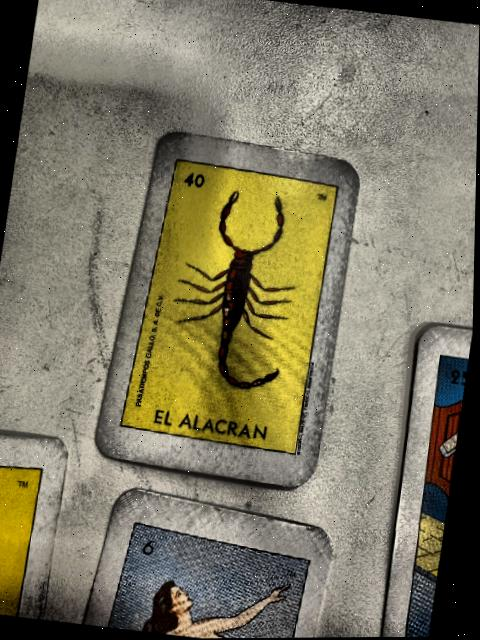El Alacran: (122, 158, 338, 451)
